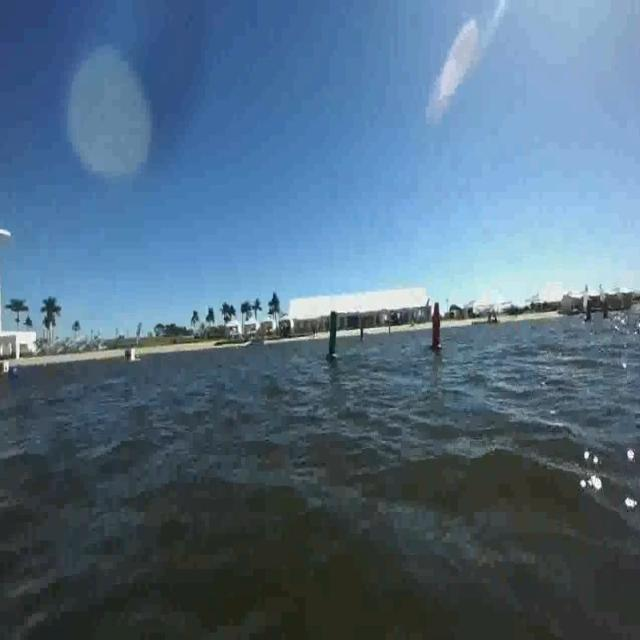green-column-buoy: (325, 312, 341, 362)
red-column-buoy: (428, 304, 443, 354)
